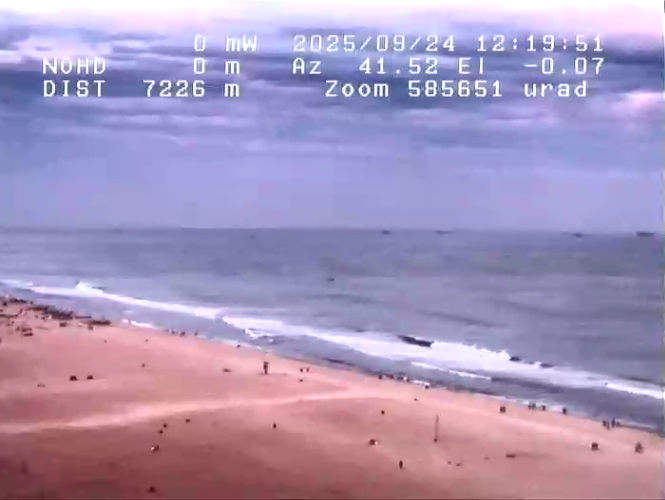TANKER: (628, 222, 660, 242)
